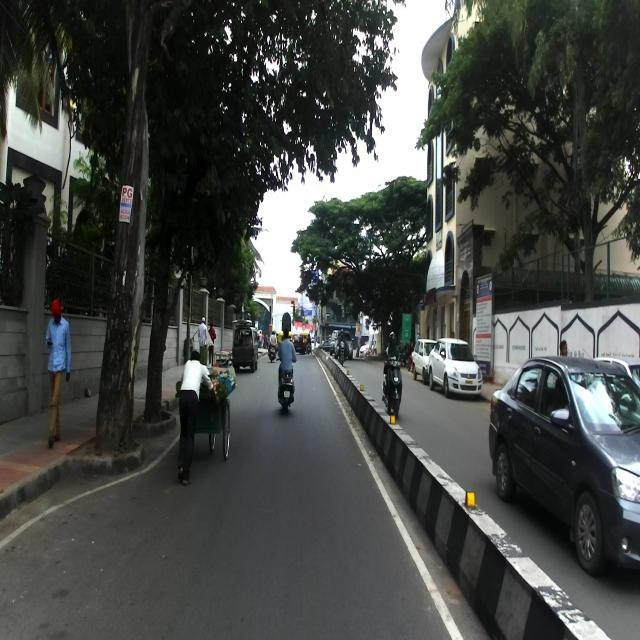car: (486, 346, 637, 573), (428, 337, 483, 399), (411, 338, 437, 382)
